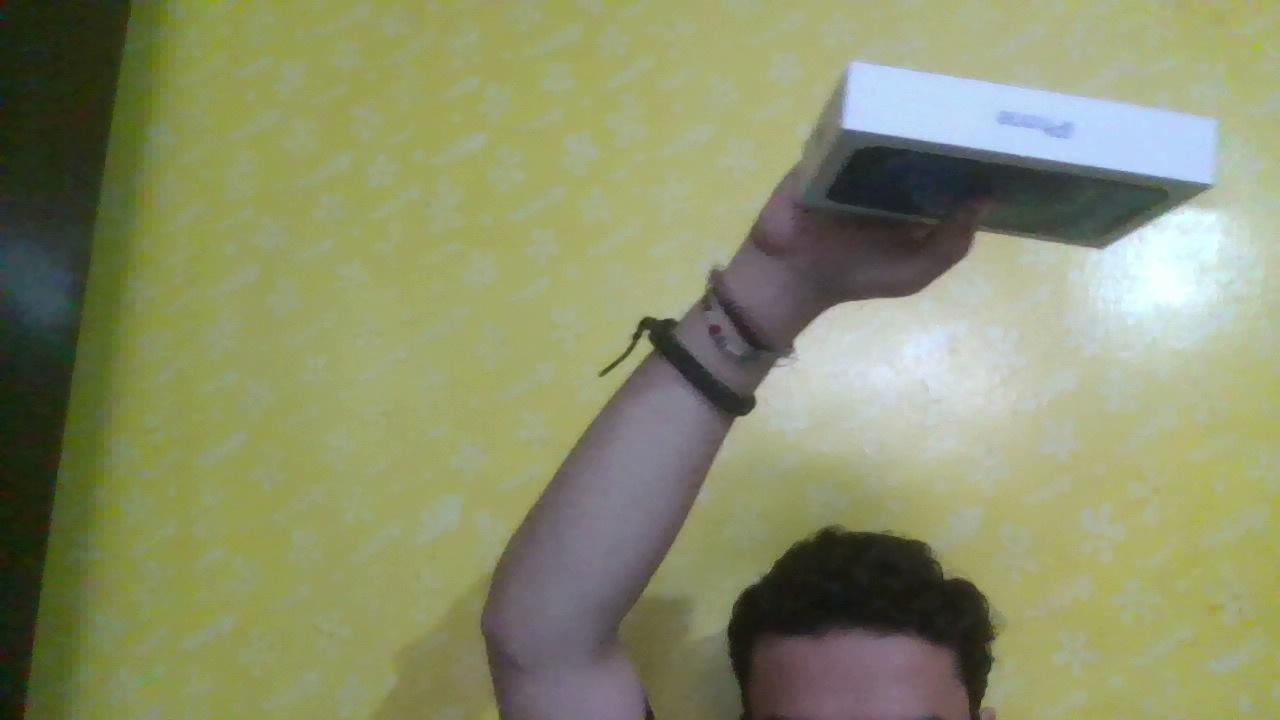Phone: (707, 45, 1251, 278)
